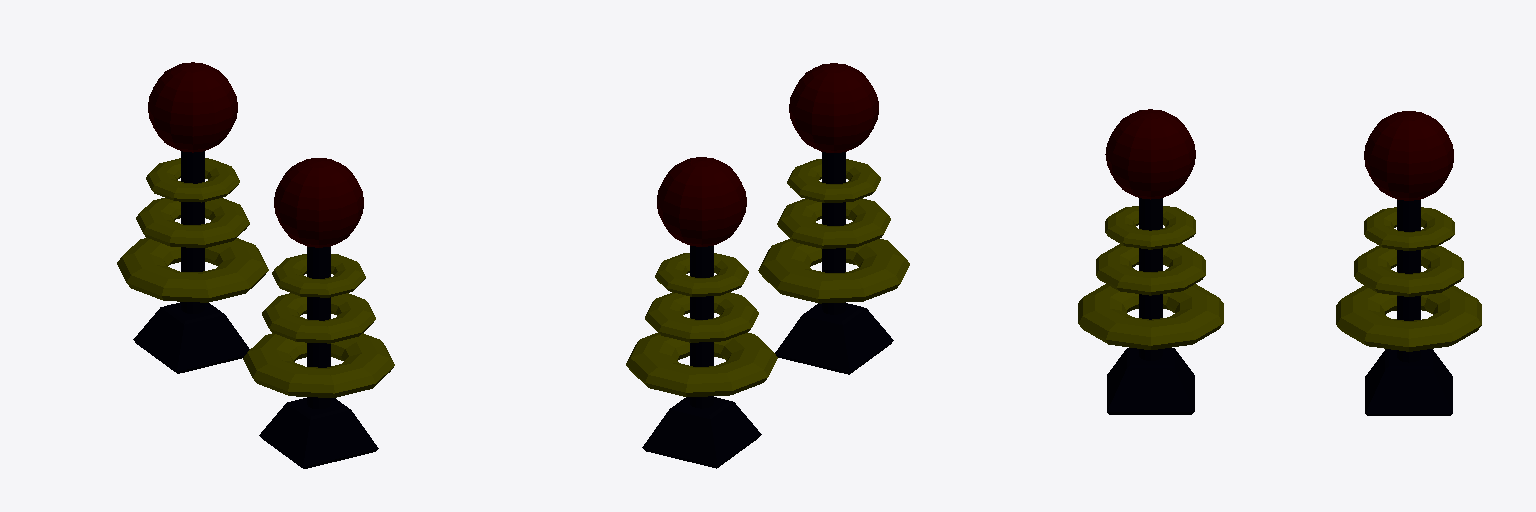
File: Trampa3.obj
3 renders of one model, left to right at view 1: azimuth 30°, elevation 25°; view 2: azimuth 150°, elevation 25°; view 3: azimuth 270°, elevation 25°, orthographic.
Visible parts, largest first — view 1: pTorus5, pTorus3, pSphere2, pSphere1, pCube2, pCube1, pTorus2, pTorus6, pTorus1, pTorus4, pCylinder3, pCylinder4; view 2: pTorus3, pTorus5, pSphere1, pSphere2, pCube1, pCube2, pTorus2, pTorus6, pTorus4, pTorus1, pCylinder4, pCylinder3; view 3: pTorus3, pTorus5, pSphere1, pSphere2, pCube2, pCube1, pTorus6, pTorus2, pTorus1, pTorus4, pCylinder4, pCylinder3.
Part boxes in pixels (x1,y1,x2,y2): pTorus5: (243,333,394,397); pTorus3: (117,238,268,302); pSphere2: (274,158,363,247); pSphere1: (148,62,237,152); pCube2: (259,398,378,468); pCube1: (133,302,249,373); pTorus2: (136,198,249,247); pTorus6: (262,293,375,343); pTorus1: (146,158,239,202); pTorus4: (272,254,365,297); pCylinder3: (181,151,204,313); pCylinder4: (307,247,330,408); pTorus3: (626,332,777,396); pTorus5: (758,239,909,303); pSphere1: (657,157,746,246); pSphere2: (789,63,878,152); pCube1: (642,397,761,468); pCube2: (775,303,893,374); pTorus2: (645,292,758,342); pTorus6: (777,198,890,248); pTorus4: (787,159,880,202); pTorus1: (655,253,748,296); pCylinder4: (822,152,845,314); pCylinder3: (690,246,713,408); pTorus3: (1336,285,1481,351); pTorus5: (1078,284,1223,349); pSphere1: (1364,111,1453,200); pSphere2: (1105,109,1195,199); pCube2: (1107,348,1194,414); pCube1: (1365,349,1452,415); pTorus6: (1096,244,1205,295); pTorus2: (1354,246,1463,296); pTorus1: (1364,207,1454,250); pTorus4: (1105,206,1195,249); pCylinder4: (1139,198,1162,360); pCylinder3: (1397,200,1420,362).
Bounding box in the file's own units: 3.46 × 6.91 × 8.91.